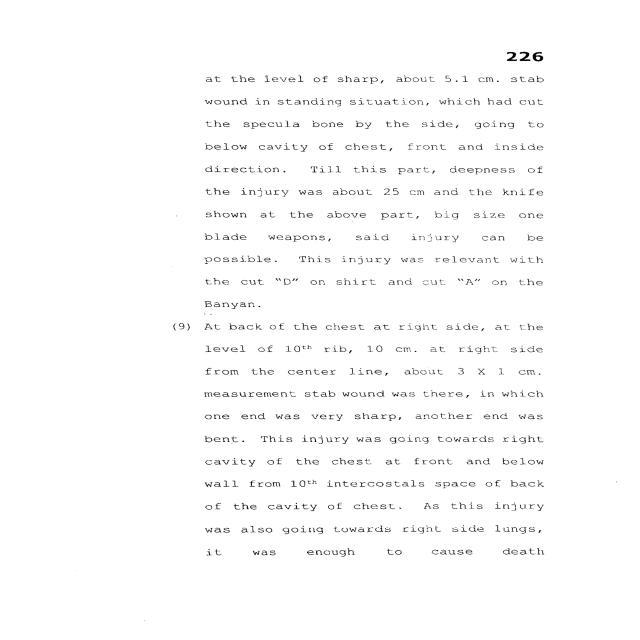page-number: (420, 3, 630, 69)
